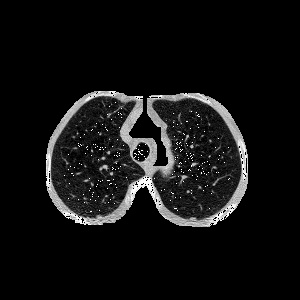PN: (190, 216, 194, 220)
